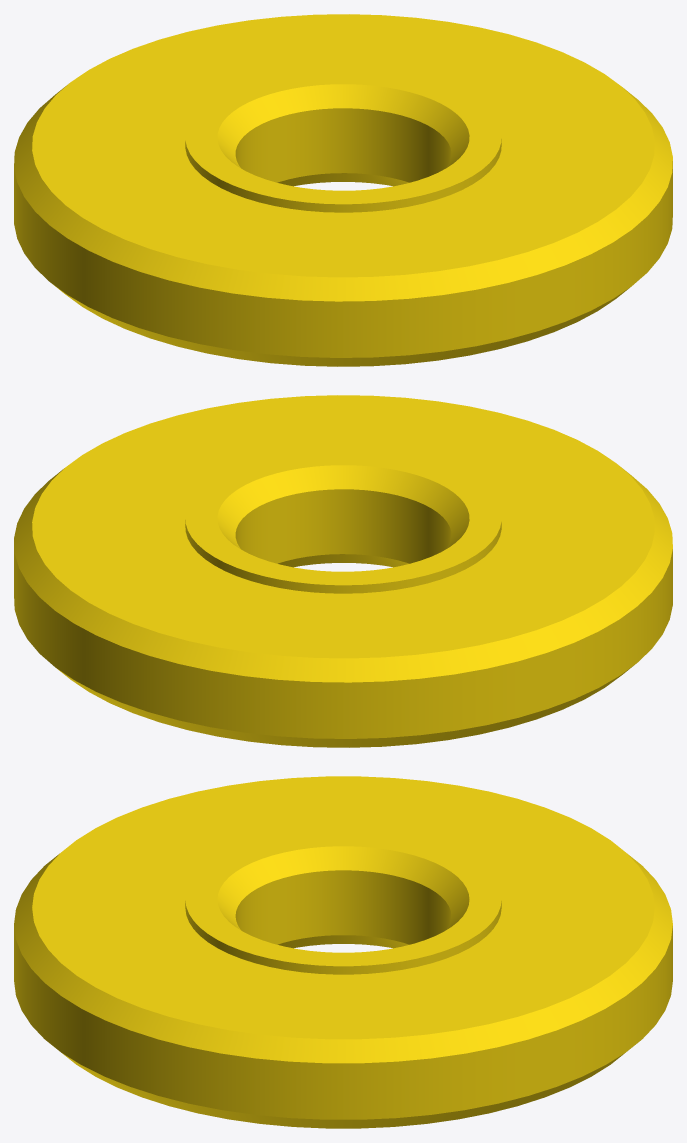
Rendered from A26_W109_pinionInside.gltf.
The picture shows the model from 3 angles, top to bottom: view 1: azimuth 30°, elevation 25°; view 2: azimuth 150°, elevation 25°; view 3: azimuth 270°, elevation 25°; orthographic projection.
Parts seen in each view (by area): view 1: mesh5660, mesh5662, mesh5661, mesh5656, mesh5658, mesh5657, mesh5663, mesh5659, mesh5655; view 2: mesh5660, mesh5662, mesh5661, mesh5656, mesh5658, mesh5657, mesh5663, mesh5659, mesh5655; view 3: mesh5660, mesh5662, mesh5661, mesh5656, mesh5658, mesh5657, mesh5663, mesh5659, mesh5655.
Boxes of the visible parts, x1,y1,x2,y2 form: mesh5660: (32,14,654,277); mesh5662: (14,161,672,357); mesh5661: (14,85,672,301); mesh5656: (235,108,451,182); mesh5658: (185,70,501,204); mesh5657: (217,84,469,168); mesh5663: (53,284,629,366); mesh5659: (185,139,501,212); mesh5655: (277,173,408,186); mesh5660: (32,395,654,658); mesh5662: (14,542,672,738); mesh5661: (14,466,672,682); mesh5656: (235,489,451,563); mesh5658: (185,451,501,585); mesh5657: (217,465,469,549); mesh5663: (57,665,633,747); mesh5659: (185,520,501,593); mesh5655: (278,554,409,567); mesh5660: (32,776,654,1039); mesh5662: (14,926,672,1119); mesh5661: (14,853,672,1063); mesh5656: (235,870,451,944); mesh5658: (185,832,501,966); mesh5657: (217,846,469,929); mesh5663: (62,1053,624,1128); mesh5659: (185,901,501,974); mesh5655: (278,935,408,948).
Bounding box in the file's own units: 0.0363 × 0.00594 × 0.0364.
